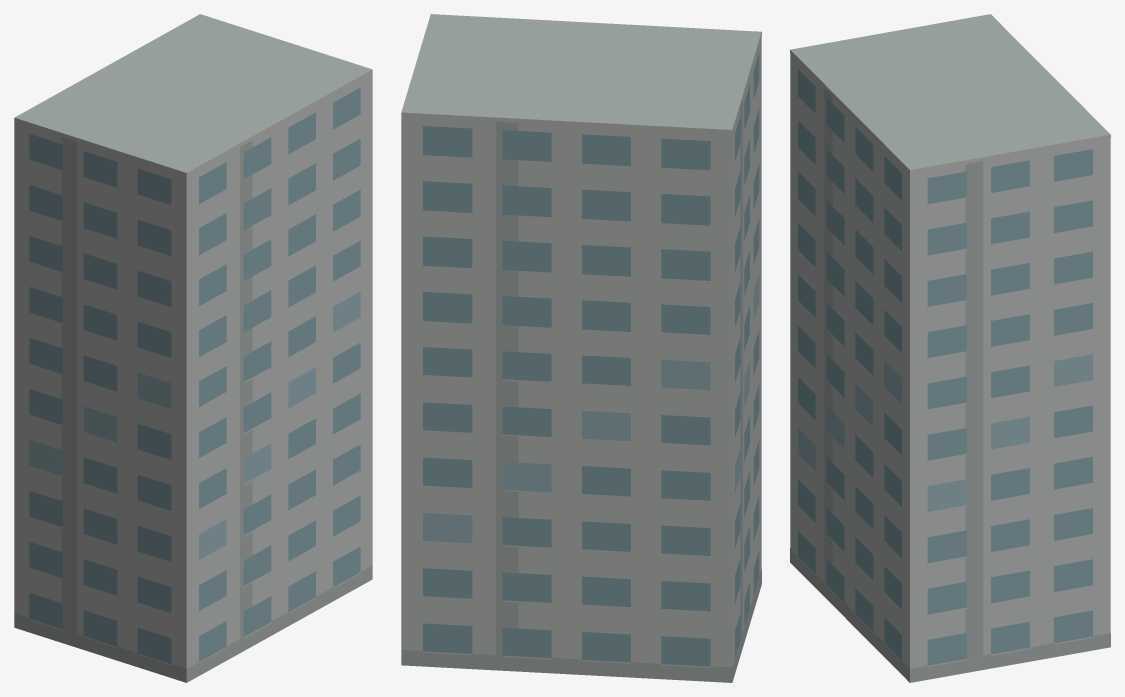
File: residential-695cf33e-1df5-443e-ae8f-4593f7712c67.glb
The picture shows the model from 3 angles, left to right: view 1: azimuth 30°, elevation 25°; view 2: azimuth 150°, elevation 25°; view 3: azimuth 270°, elevation 25°; orthographic projection. The views are drawn at different scales.
Visible parts, largest first — view 1: residential-695cf33e-1df5-443e-ae8f-4593f7712c67.tmp; view 2: residential-695cf33e-1df5-443e-ae8f-4593f7712c67.tmp; view 3: residential-695cf33e-1df5-443e-ae8f-4593f7712c67.tmp.
Boxes of the visible parts, box(x1,y1,x2,y2) form: residential-695cf33e-1df5-443e-ae8f-4593f7712c67.tmp: box(14, 14, 372, 682); residential-695cf33e-1df5-443e-ae8f-4593f7712c67.tmp: box(401, 14, 761, 682); residential-695cf33e-1df5-443e-ae8f-4593f7712c67.tmp: box(790, 14, 1110, 682).
Size of the model in its own units: 20.91 by 32 by 18.15.
